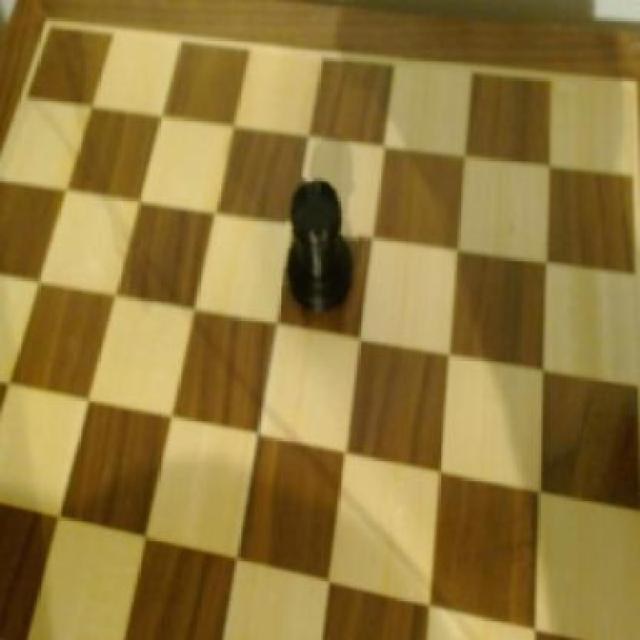black-queen: (283, 177, 360, 321)
